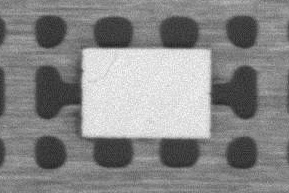DIE_CRACK: (88, 56, 115, 82)
